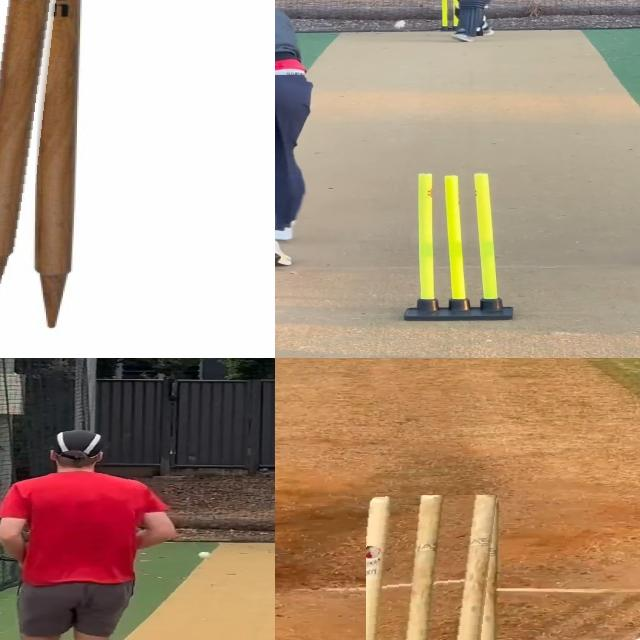Cricket ball: (197, 550, 212, 560), (394, 20, 408, 30)
Stumps: (0, 0, 86, 333), (366, 495, 498, 640), (407, 173, 512, 320)
